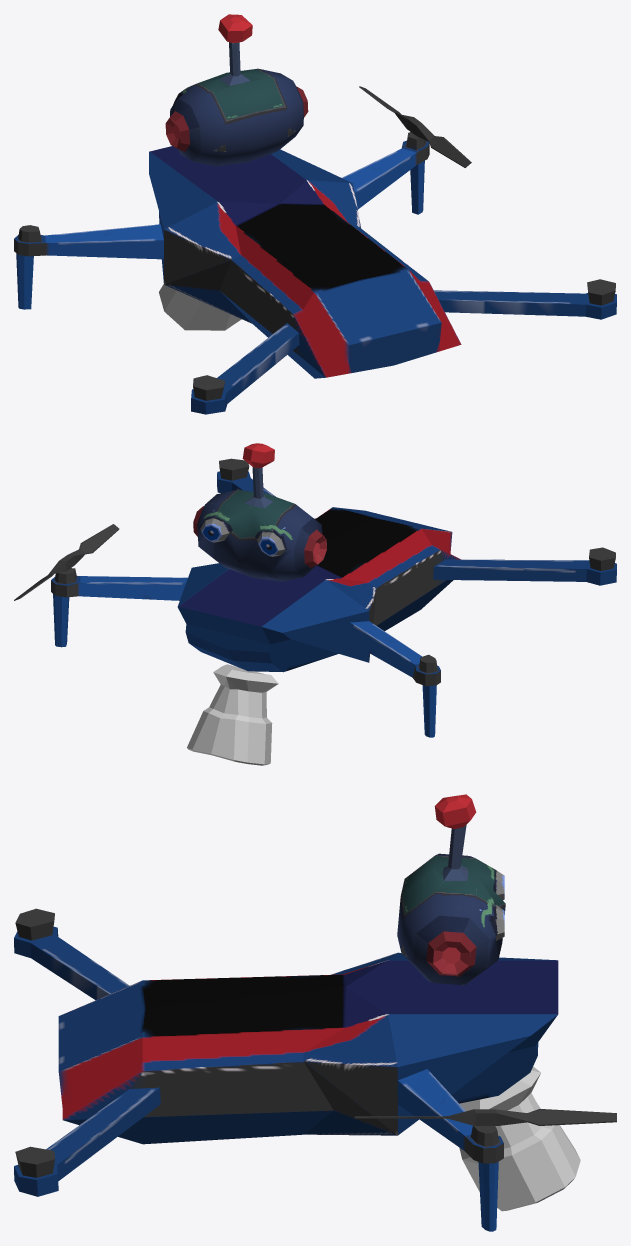
File: Drone.fbx
3 views of the same model, one above another, from view 1: azimuth 30°, elevation 25°; view 2: azimuth 150°, elevation 25°; view 3: azimuth 270°, elevation 25° (orthographic). The views are drawn at different scales.
Visible parts, largest first — view 1: Drone, TMT, CameraDrone, Helice; view 2: Drone, TMT, CameraDrone, Helice; view 3: Drone, TMT, CameraDrone, Helice.
Boxes of the visible parts, bbox=[...] form: Drone: bbox=[14, 132, 616, 414]; TMT: bbox=[165, 14, 308, 166]; CameraDrone: bbox=[159, 284, 241, 330]; Helice: bbox=[359, 86, 471, 167]; Drone: bbox=[51, 458, 616, 737]; TMT: bbox=[193, 443, 326, 581]; CameraDrone: bbox=[187, 664, 278, 765]; Helice: bbox=[14, 524, 119, 600]; Drone: bbox=[14, 908, 558, 1231]; TMT: bbox=[397, 794, 505, 985]; CameraDrone: bbox=[459, 1066, 580, 1211]; Helice: bbox=[354, 1109, 616, 1125].
Bounding box in the file's own units: 382 × 274 × 378.
